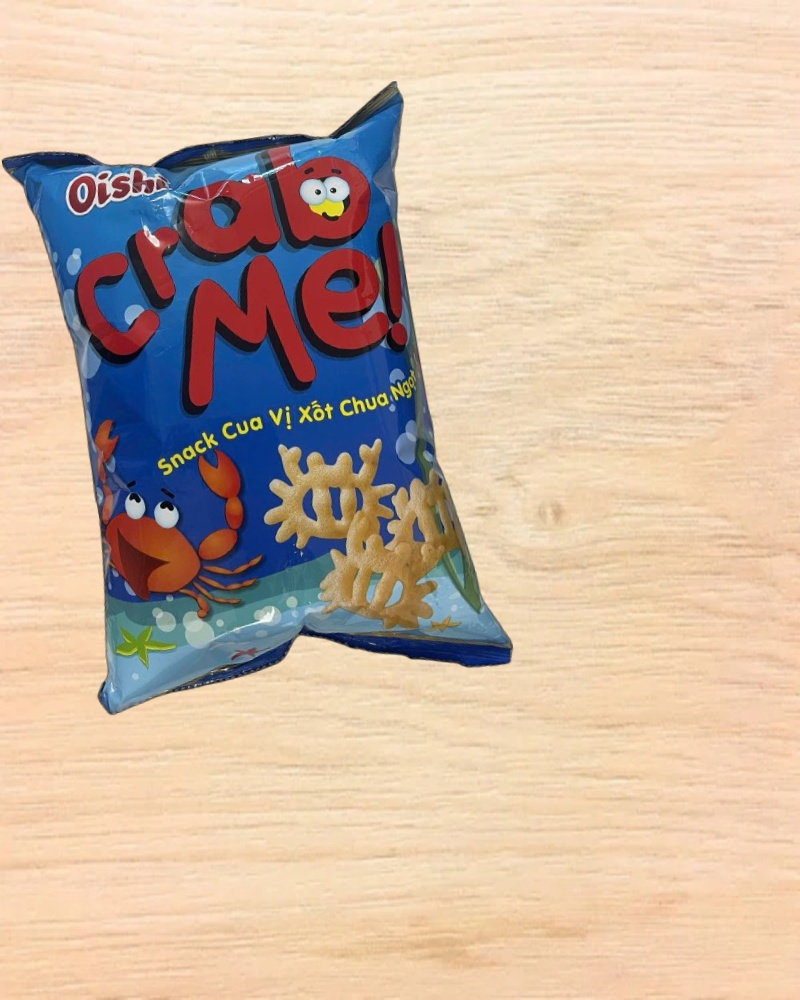Snack cua: (1, 79, 515, 729)
